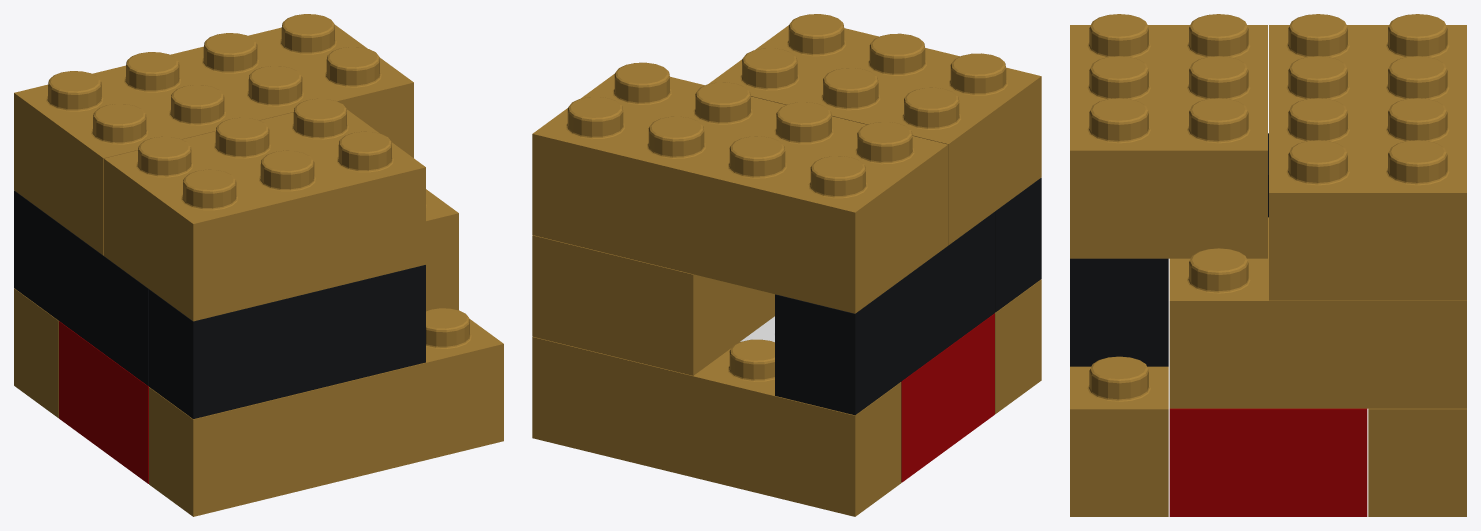
Rendered from SmallObj_v4.dae.
3 views of the same model, side by side, from view 1: azimuth 30°, elevation 25°; view 2: azimuth 150°, elevation 25°; view 3: azimuth 270°, elevation 25° (orthographic). The views are drawn at different scales.
Visible parts, largest first — view 1: Part.2, Part.0, Part.7, Part.9, Part.8, Part.5, Part.6, Part.1; view 2: Part.0, Part.6, Part.2, Part.8, Part.1, Part.5, Part.7, Part.9; view 3: Part.0, Part.2, Part.1, Part.4, Part.7, Part.6, Part.9.
Part boxes in pixels (x1=…): Part.2: x1=104, y1=98, x2=425, y2=321; Part.0: x1=14, y1=14, x2=413, y2=255; Part.7: x1=149, y1=308, x2=503, y2=516; Part.9: x1=149, y1=265, x2=425, y2=418; Part.8: x1=14, y1=190, x2=148, y2=386; Part.5: x1=59, y1=321, x2=148, y2=483; Part.6: x1=14, y1=288, x2=58, y2=418; Part.1: x1=426, y1=189, x2=458, y2=310; Part.0: x1=532, y1=62, x2=948, y2=313; Part.6: x1=532, y1=337, x2=901, y2=516; Part.2: x1=708, y1=14, x2=1041, y2=245; Part.8: x1=775, y1=212, x2=994, y2=415; Part.1: x1=532, y1=235, x2=774, y2=375; Part.5: x1=901, y1=313, x2=994, y2=482; Part.7: x1=995, y1=279, x2=1041, y2=414; Part.9: x1=995, y1=177, x2=1041, y2=312; Part.0: x1=1269, y1=14, x2=1466, y2=300; Part.2: x1=1070, y1=14, x2=1267, y2=258; Part.1: x1=1169, y1=217, x2=1466, y2=408; Part.4: x1=1169, y1=408, x2=1367, y2=516; Part.7: x1=1070, y1=356, x2=1168, y2=516; Part.6: x1=1368, y1=408, x2=1466, y2=516; Part.9: x1=1070, y1=258, x2=1168, y2=366.
Bounding box in the file's own units: 31.92 × 30.58 × 31.92.
